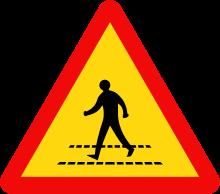Pedestrian Crossing: (15, 13, 204, 183)
